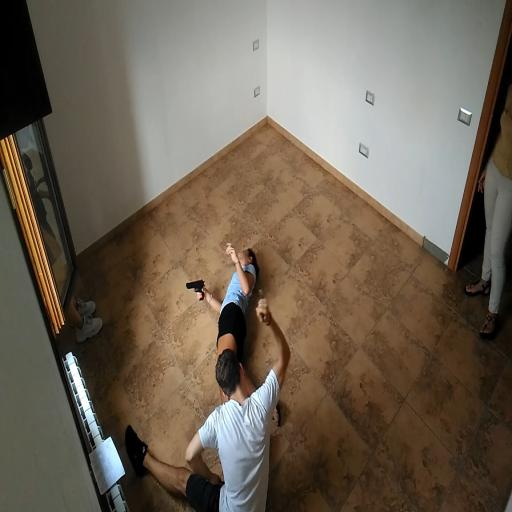violencia: (108, 234, 297, 512)
